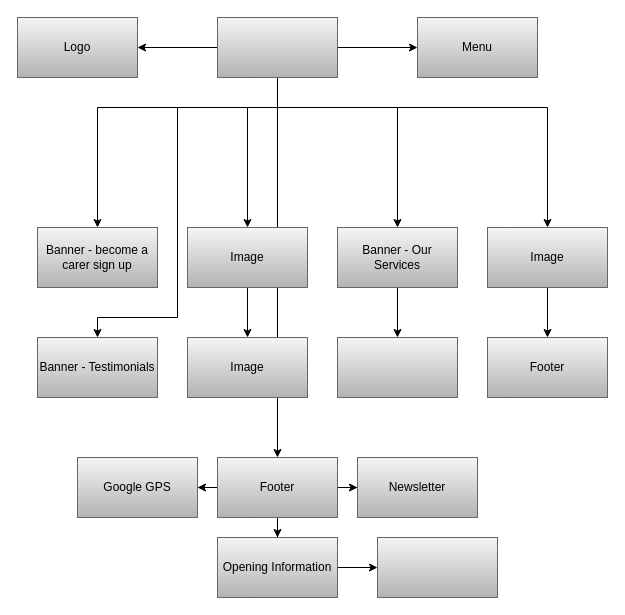
Image size: 625x615. Some labels were removed from this diagram. The shapes that lost their labels are listed below. From the top down, each one's centre as x and y in pixels, then its label:
At point 277,47: "Header".
At point 397,367: "Banner - Covid 19 support".
At point 437,567: "Closing date - covid-19".
